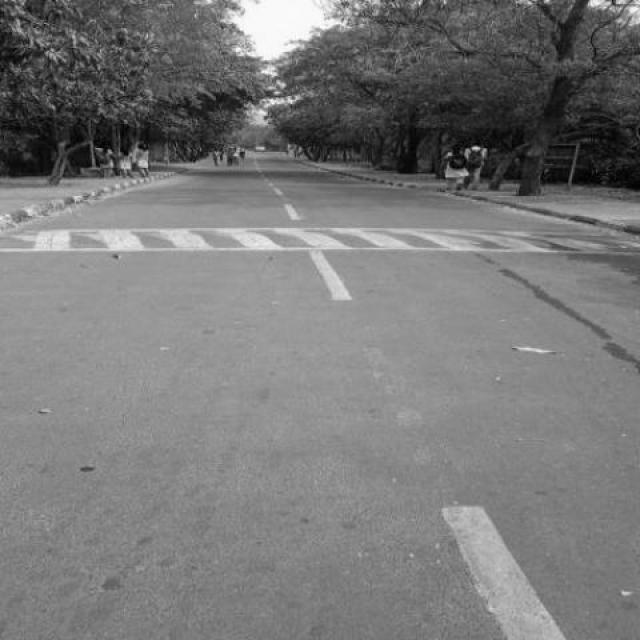Speed Bump: (0, 226, 639, 258)
